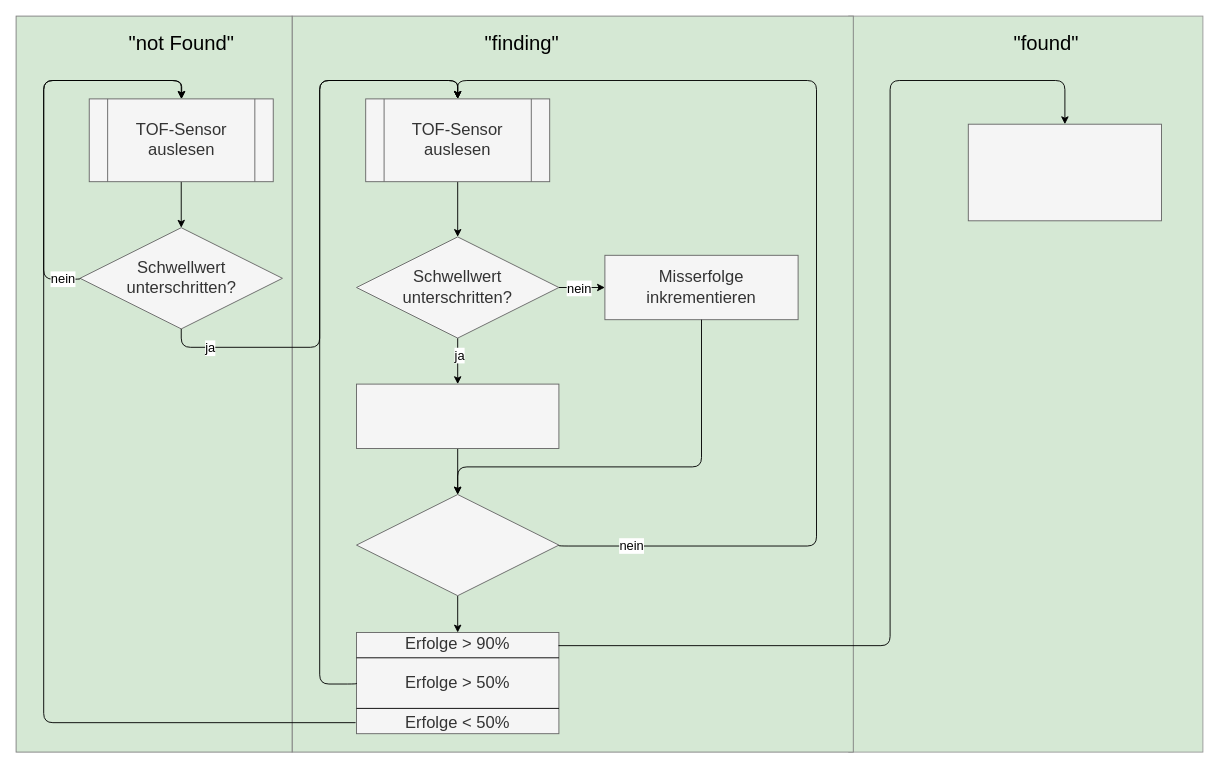
Image size: 1219x768. Some labels were removed from this diagram. The shapes that lost their labels are listed below. From the top down, each one's centre as x and y in pixels, then its label:
point 1064,172: pi informieren
point 457,415: Erfolge inkrementieren
point 457,545: 20 Messungen gemacht?
